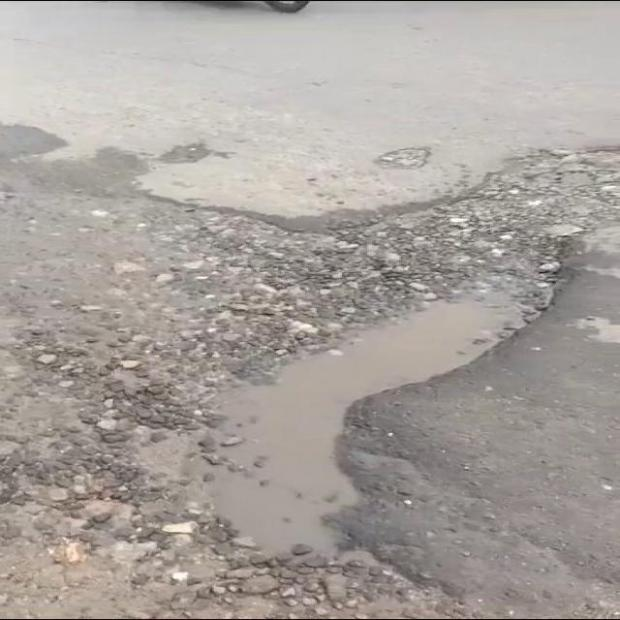lubang: (0, 148, 619, 552), (374, 146, 432, 169)
